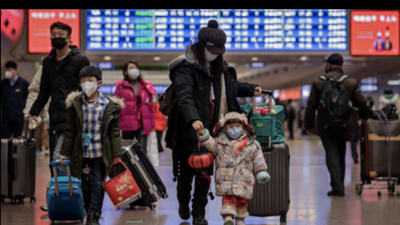with_mask: (49, 30, 67, 49), (80, 77, 98, 96), (227, 122, 243, 138), (204, 46, 219, 63), (127, 66, 139, 80), (4, 67, 15, 79)
